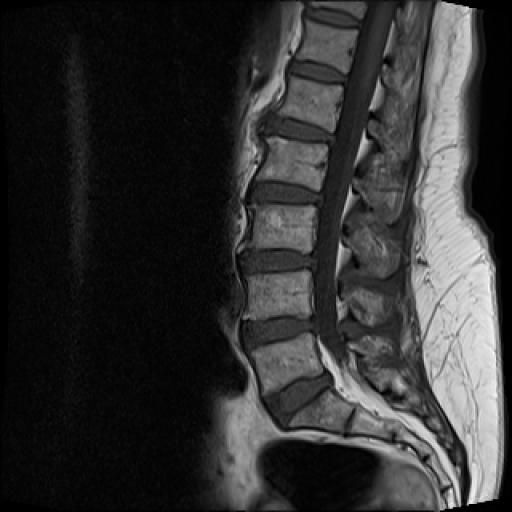L1: (276, 76, 343, 132)
L2: (256, 135, 327, 192)
L3: (249, 206, 316, 254)
L4: (243, 271, 311, 320)
L5: (251, 334, 323, 394)
S1: (288, 389, 354, 434)
